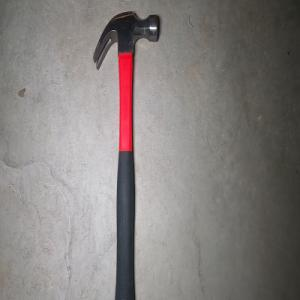Hammer: (92, 9, 159, 300)
